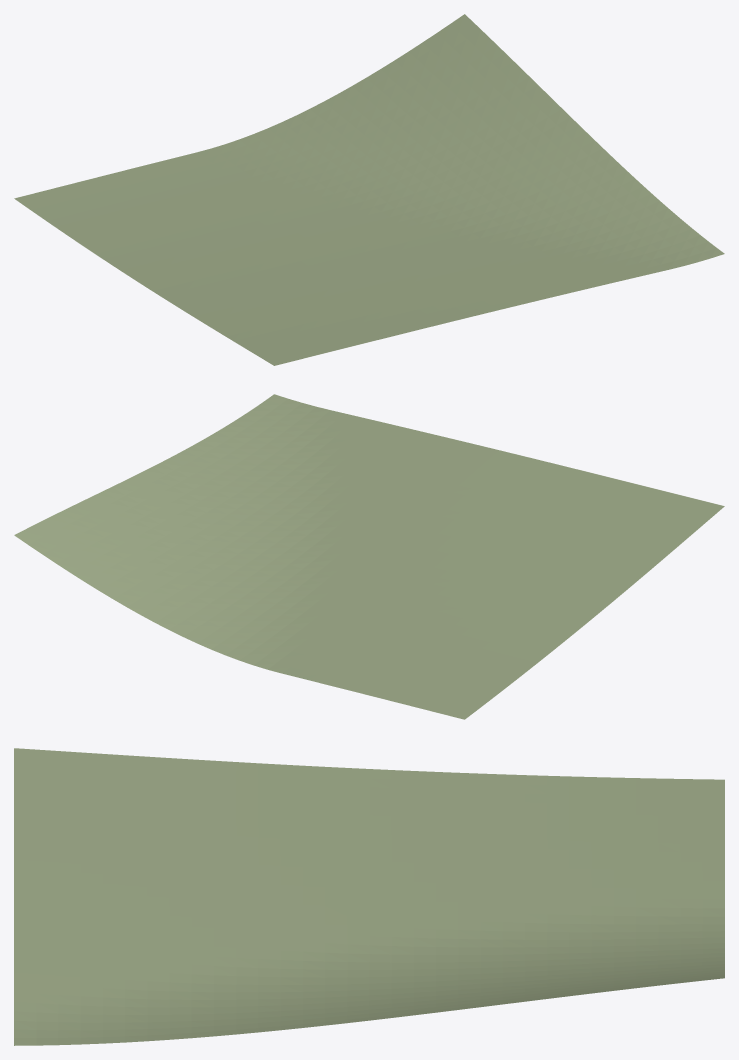
The model's file is desert-23-21.glb.
3 renders of one model, top to bottom at view 1: azimuth 30°, elevation 25°; view 2: azimuth 150°, elevation 25°; view 3: azimuth 270°, elevation 25°, orthographic. The views are drawn at different scales.
Visible parts, largest first — view 1: desert-23-21; view 2: desert-23-21; view 3: desert-23-21.
Boxes of the visible parts, <box> form: desert-23-21: <box>14,14,724,365</box>; desert-23-21: <box>14,394,724,719</box>; desert-23-21: <box>14,748,724,1045</box>.
Bounding box in the file's own units: 512 × 80.91 × 512.
